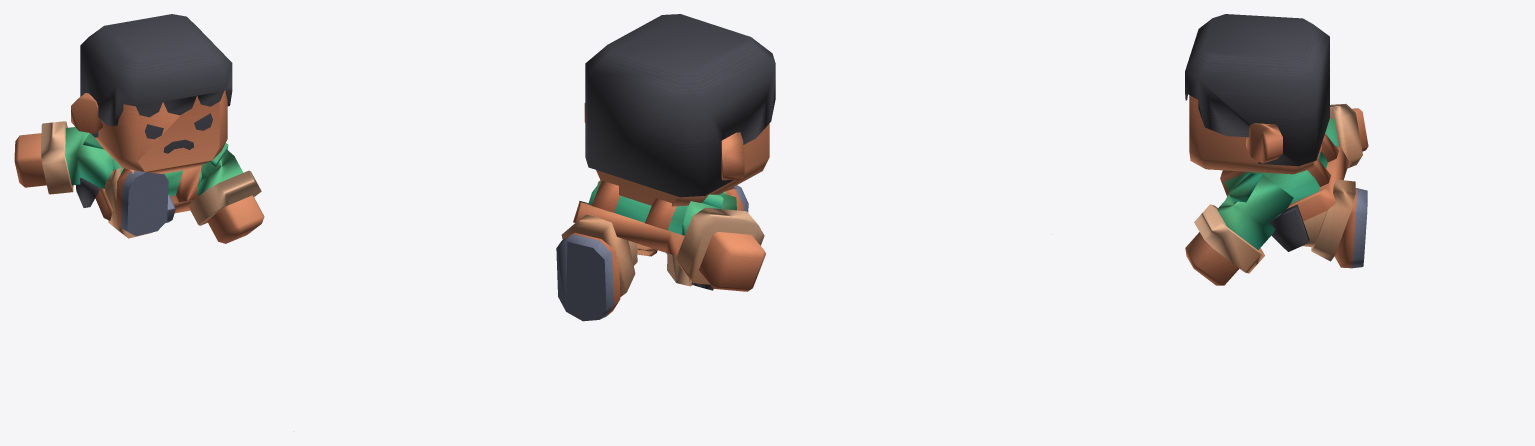
The model's file is crowdA_sprint_6.glb.
3 renders of one model, left to right at view 1: azimuth 30°, elevation 25°; view 2: azimuth 150°, elevation 25°; view 3: azimuth 270°, elevation 25°, orthographic. The views are drawn at different scales.
Visible parts, largest first — view 1: crowdA-sprint-6; view 2: crowdA-sprint-6; view 3: crowdA-sprint-6.
Boxes of the visible parts, x1=… form: crowdA-sprint-6: x1=14, y1=14, x2=264, y2=243; crowdA-sprint-6: x1=556, y1=14, x2=775, y2=321; crowdA-sprint-6: x1=1185, y1=14, x2=1368, y2=285.
Bounding box in the file's own units: 1.2 × 0.8301 × 1.2.
1 material, 1 textured.
